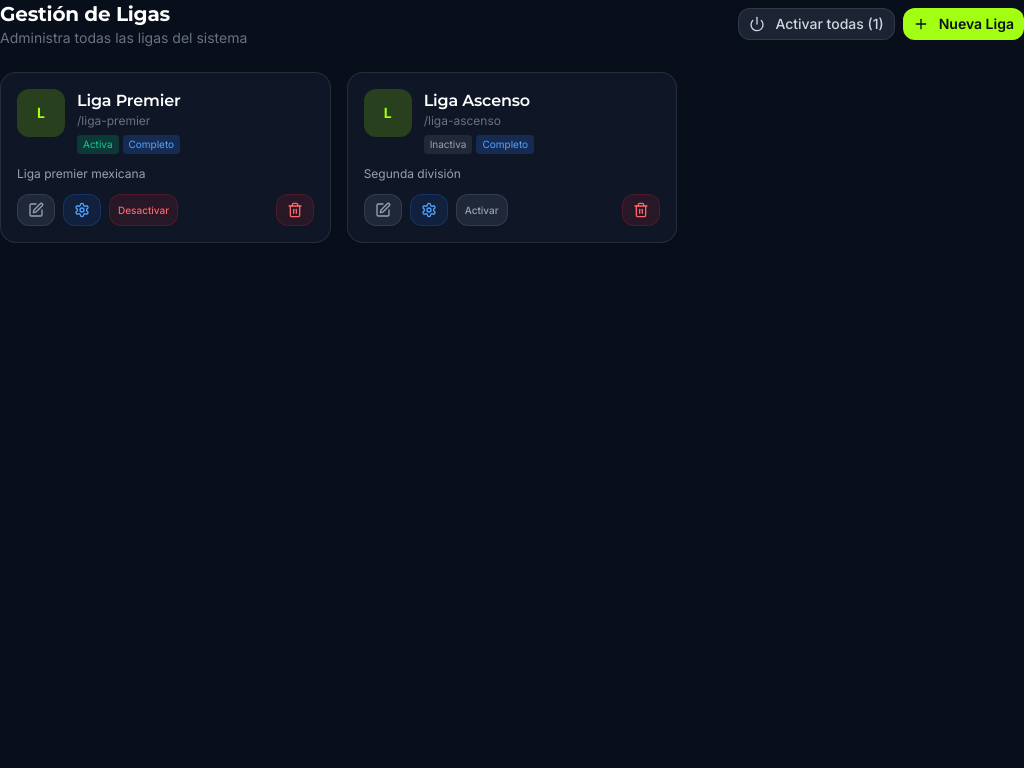
it: Change the admin of a league › prefills the current admin from GET /admin/users/{id}
Expected: the heading "Liga Premier" is shown, [77,91,181,110]
Step 1. Click the button named "editar " → [36, 210], box [17,194,55,226]
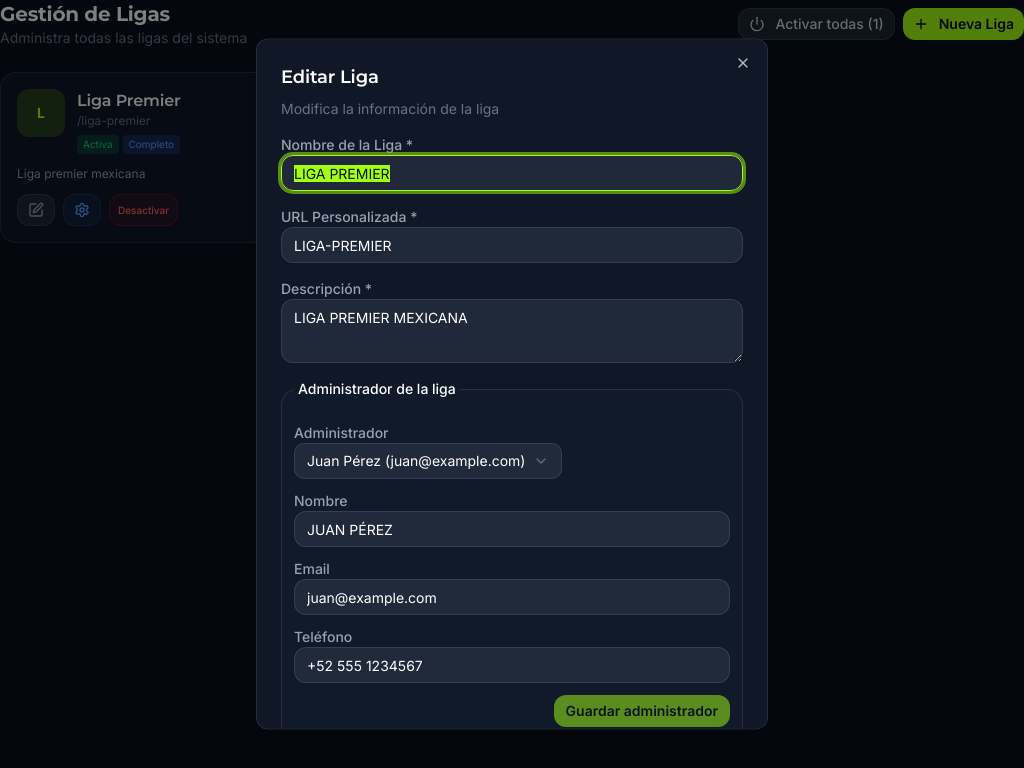
Expected: the field labelled "Email" holds "juan@example.com", [294,579,730,615]
Expected: the button "Guardar administrador" is disabled, [554,695,730,727]
